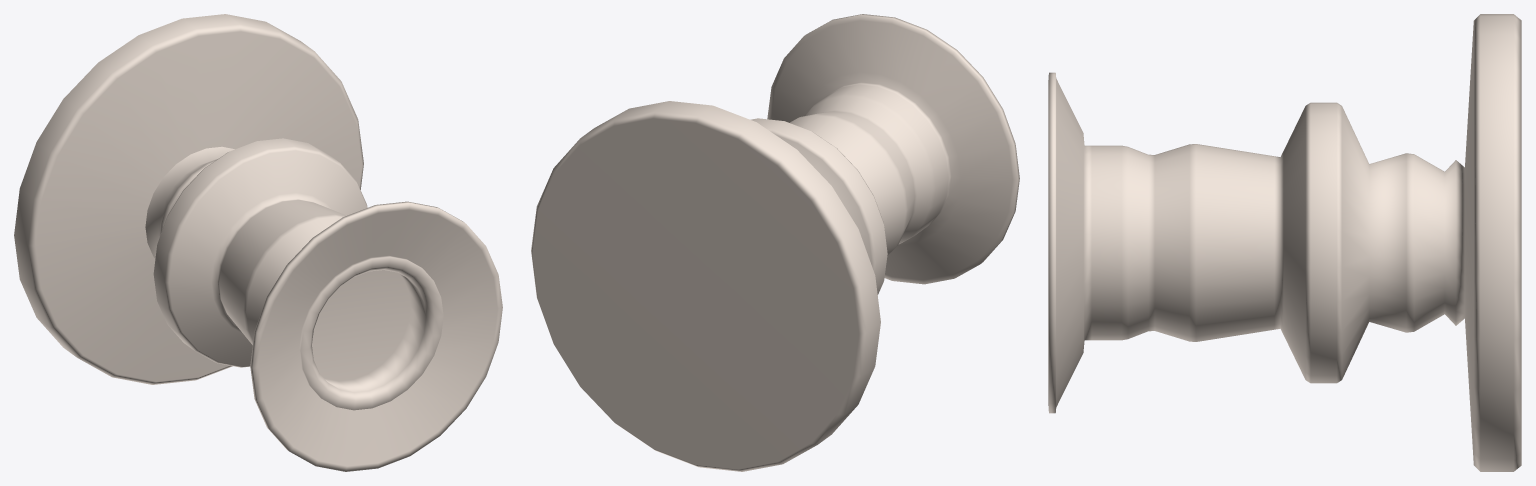
Rendered from MeshCylinder_003_0.obj.
3 renders of one model, left to right at view 1: azimuth 30°, elevation 25°; view 2: azimuth 150°, elevation 25°; view 3: azimuth 270°, elevation 25°, orthographic. The views are drawn at different scales.
Parts seen in each view (by area): view 1: Cylinder_003; view 2: Cylinder_003; view 3: Cylinder_003.
Boxes of the visible parts, bbox=[...] form: Cylinder_003: bbox=[14, 14, 502, 471]; Cylinder_003: bbox=[531, 14, 1019, 471]; Cylinder_003: bbox=[1048, 14, 1521, 471].
Size of the model in its own units: 0.0522 by 0.0522 by 0.0537.
